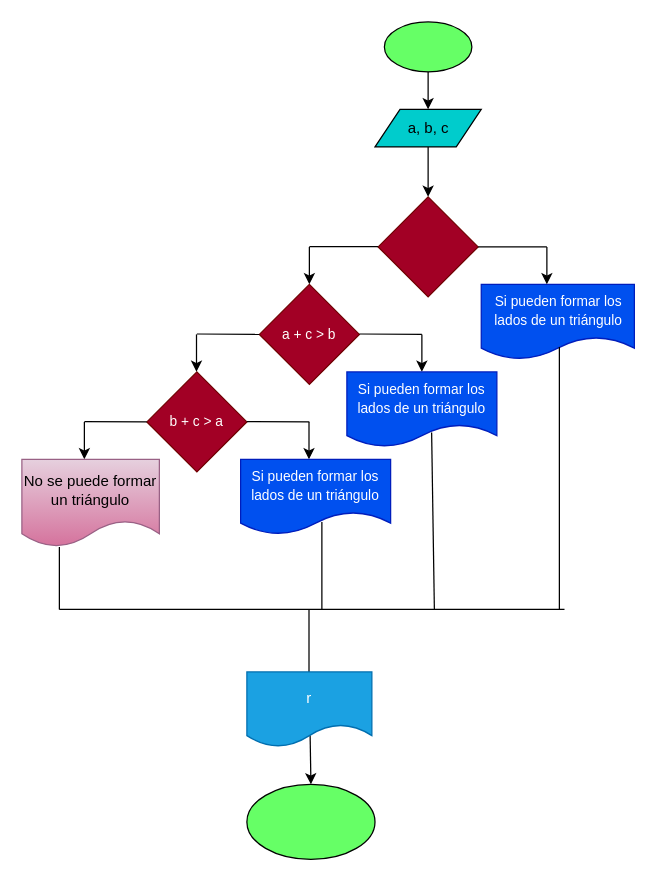
The diagram is 656 pixels wide and 881 high, and some of its shapes have lost their labels. The centre of each missing label's shape, as x and y in pixels:
a + b > c: point 427,246
FIN: point 310,821
INICIO: point 427,46
